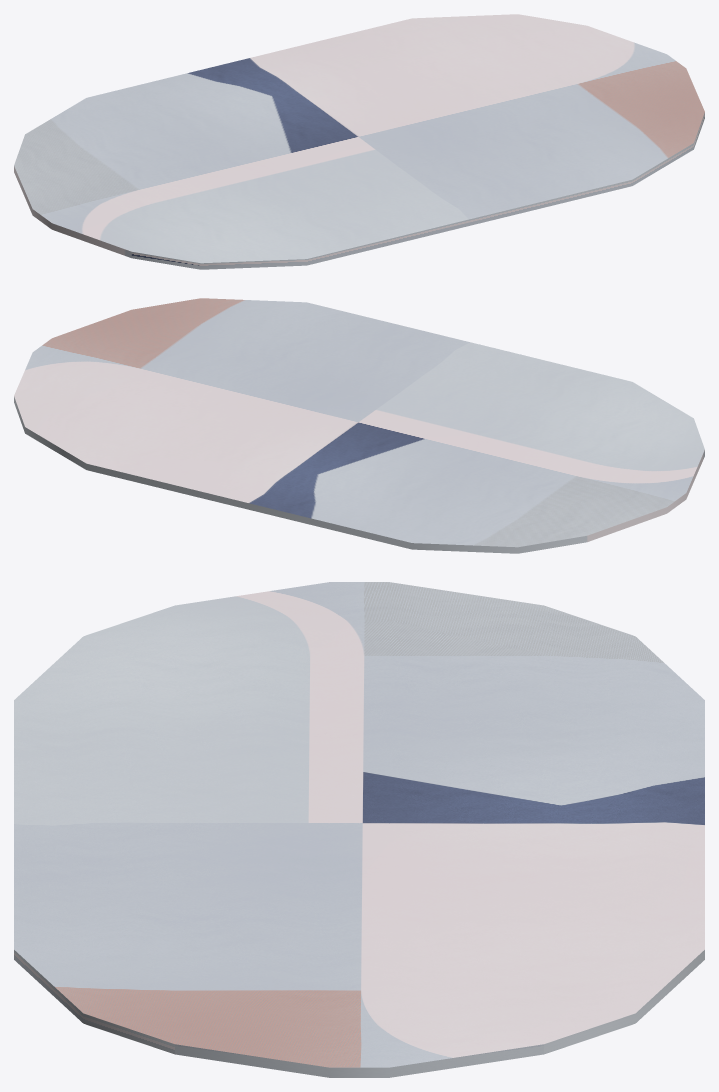
Rendered from modern rug.fbx.
3 views of the same model, one above another, from view 1: azimuth 30°, elevation 25°; view 2: azimuth 150°, elevation 25°; view 3: azimuth 270°, elevation 25° (orthographic). The views are drawn at different scales.
Parts seen in each view (by area): view 1: modern rug; view 2: modern rug; view 3: modern rug.
Boxes of the visible parts, x1,y1,x2,y2 form: modern rug: (14,14,704,269); modern rug: (14,298,704,553); modern rug: (14,582,704,1077).
Size of the model in its own units: 744 by 9.72 by 448.
1 material, 1 textured.
